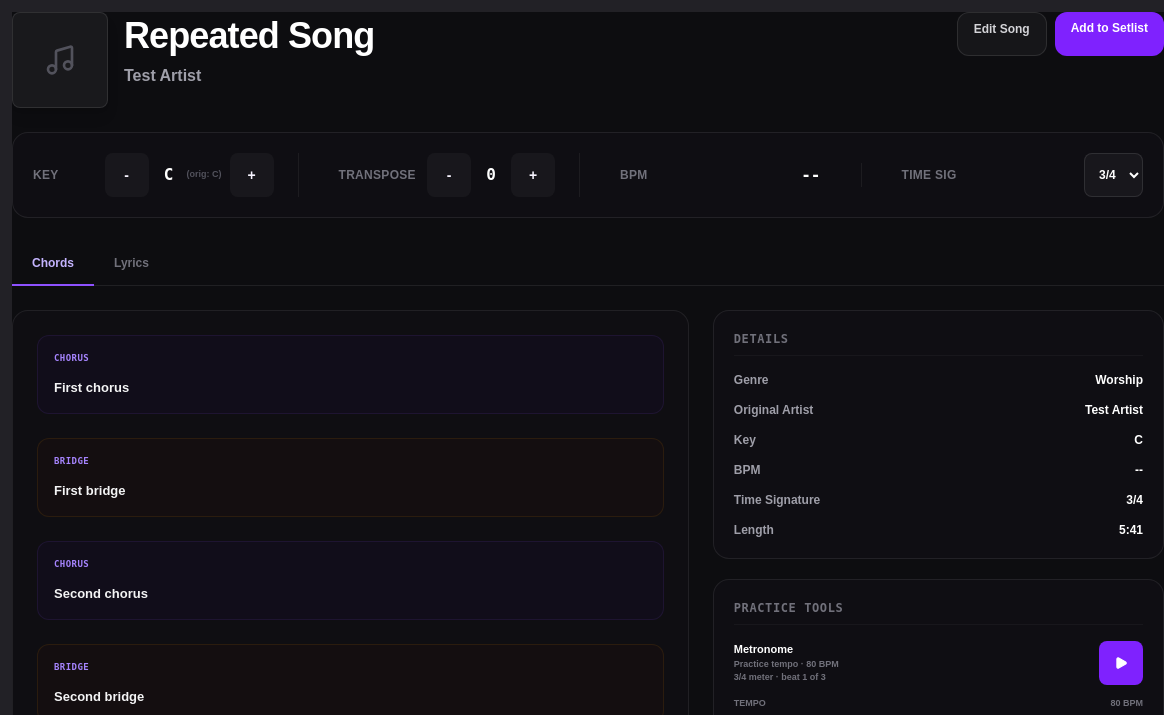
SongViewer › uses a labeled practice tempo when BPM is missing and follows the song meter
Check: the text "Practice tempo · 80 BPM" is shown, box [734,658,839,671]
Check: the text "3/4 meter · beat 1 of 3" is shown, box [734,671,839,685]
Select "6/8" in the dropdown named "Practice time signature" at (1114, 175), box [1084,153,1143,197]
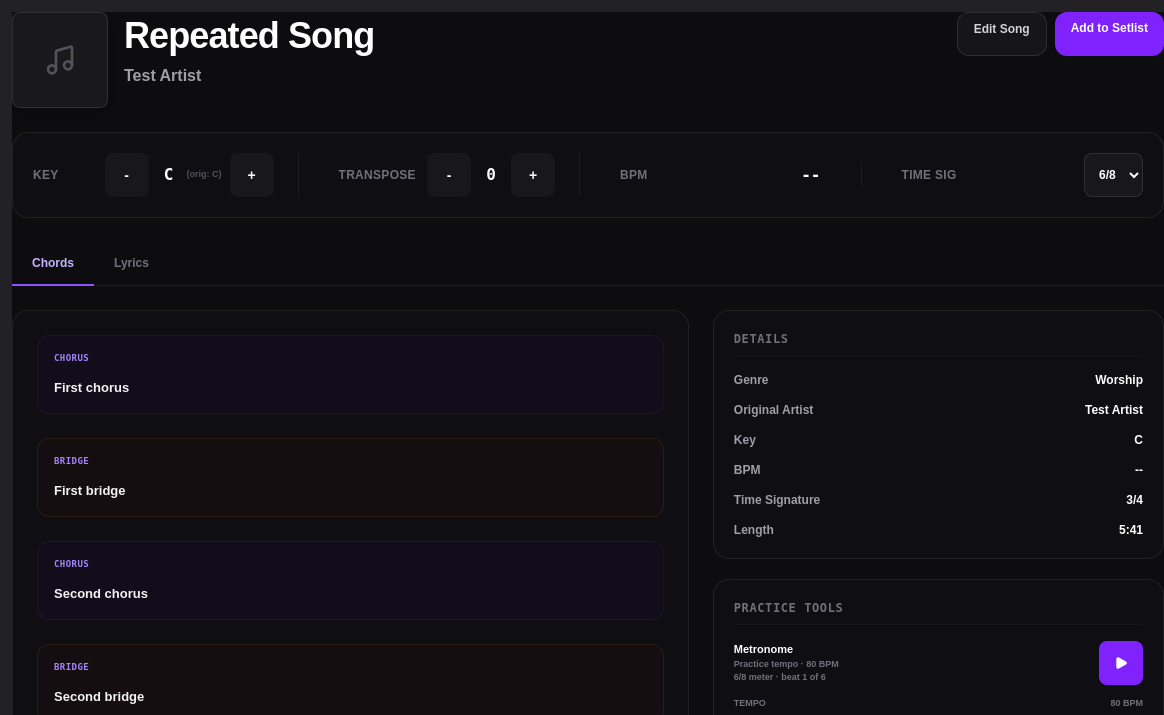
Check: the button named "Raise song key" is shown, box [230,153,274,197]
Check: the text "6/8 meter · beat 1 of 6" is shown, box [734,671,839,685]
